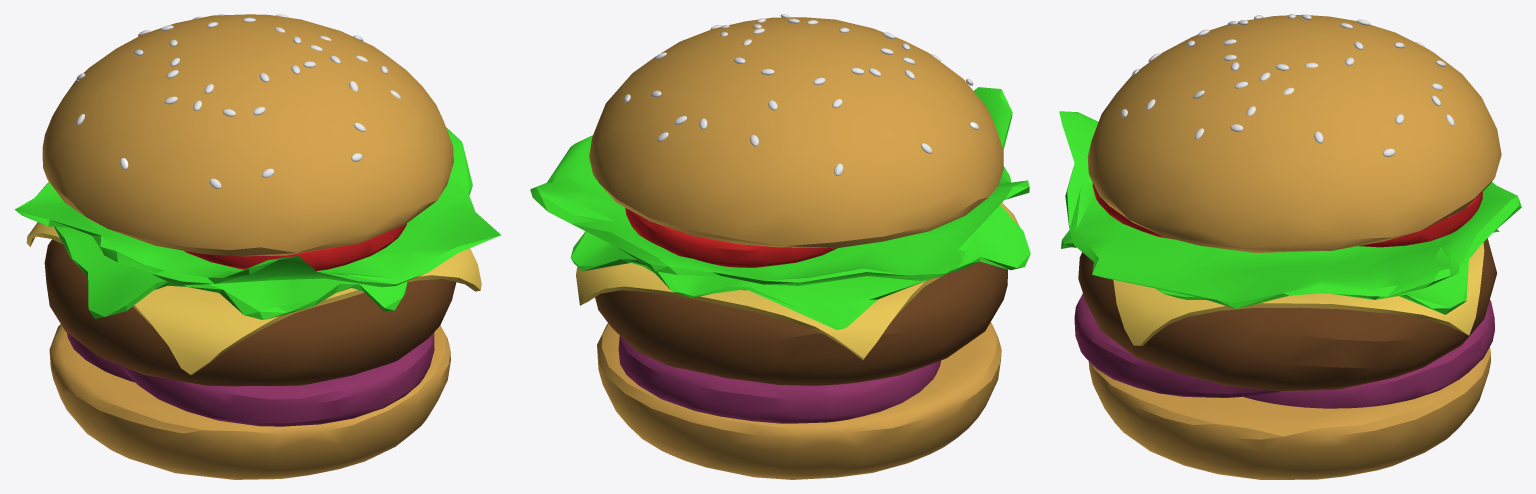
Rendered from sample_burger.fbx.
3 views of the same model, side by side, from view 1: azimuth 30°, elevation 25°; view 2: azimuth 150°, elevation 25°; view 3: azimuth 270°, elevation 25° (orthographic).
Visible parts, largest first — view 1: Group41581, Group45133, Group57255, Group38462, Group4317, Group32408, Group13076, Group46228, Group12175; view 2: Group41581, Group57255, Group45133, Group38462, Group12175, Group32408, Group13076, Group14196; view 3: Group41581, Group45133, Group38462, Group57255, Group13076, Group12175, Group4317, Group32408, Group14196, Group46228.
Part boxes in pixels (x1,y1,x2,y2): Group41581: (42, 14, 453, 256); Group45133: (49, 324, 450, 479); Group57255: (44, 239, 456, 386); Group38462: (14, 127, 501, 287); Group4317: (122, 332, 434, 426); Group32408: (54, 227, 407, 319); Group13076: (26, 222, 481, 374); Group46228: (183, 223, 406, 270); Group12175: (67, 332, 135, 382); Group41581: (589, 17, 1003, 248); Group57255: (595, 261, 1007, 385); Group45133: (597, 322, 1001, 479); Group38462: (530, 87, 1029, 285); Group12175: (618, 335, 941, 423); Group32408: (570, 205, 1030, 330); Group13076: (576, 203, 1019, 360); Group14196: (625, 208, 837, 267); Group41581: (1087, 14, 1501, 252); Group45133: (1088, 347, 1490, 479); Group38462: (1059, 111, 1521, 308); Group57255: (1078, 238, 1497, 391); Group13076: (1113, 242, 1484, 345); Group12175: (1243, 300, 1494, 408); Group4317: (1074, 293, 1279, 397); Group32408: (1061, 229, 1499, 314); Group14196: (1359, 192, 1482, 247); Group46228: (1092, 183, 1174, 239).
Size of the model in its own units: 2.64 by 2.26 by 2.57.
